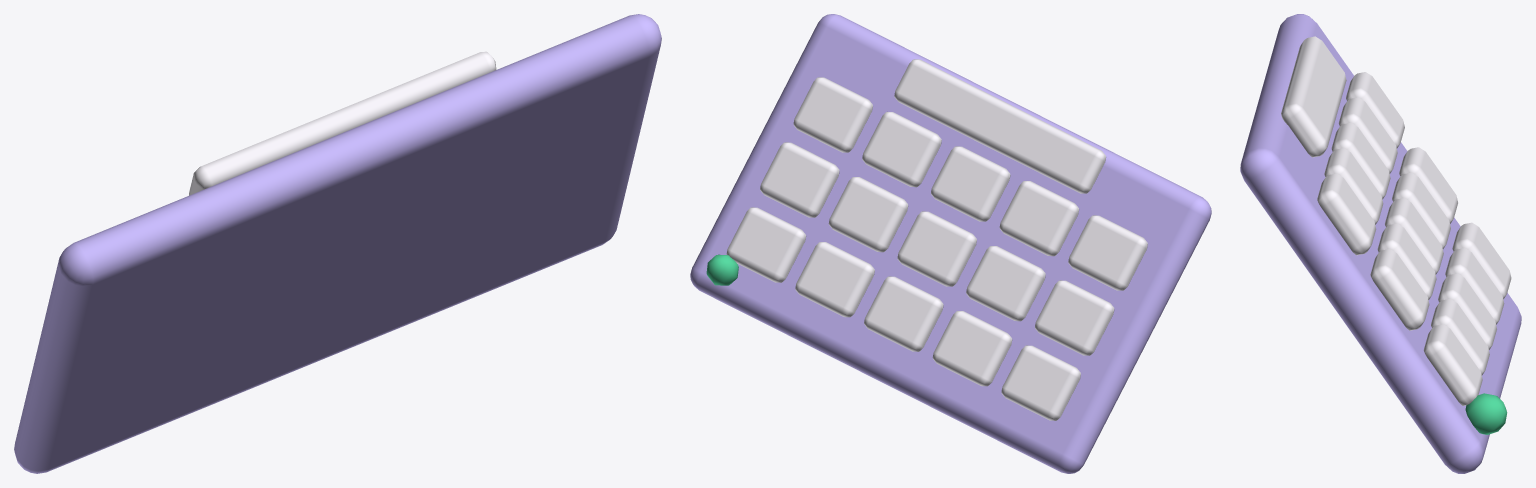
Rendered from prop-keypad.glb.
3 renders of one model, left to right at view 1: azimuth 30°, elevation 25°; view 2: azimuth 150°, elevation 25°; view 3: azimuth 270°, elevation 25°, orthographic. The views are drawn at different scales.
Visible parts, largest first — view 1: prop-keypad-mesh; view 2: prop-keypad-mesh; view 3: prop-keypad-mesh.
Boxes of the visible parts, bbox=[...] form: prop-keypad-mesh: bbox=[14, 14, 661, 473]; prop-keypad-mesh: bbox=[690, 14, 1211, 473]; prop-keypad-mesh: bbox=[1240, 14, 1521, 473].
Size of the model in its own units: 0.3716 by 0.2417 by 0.1565.
